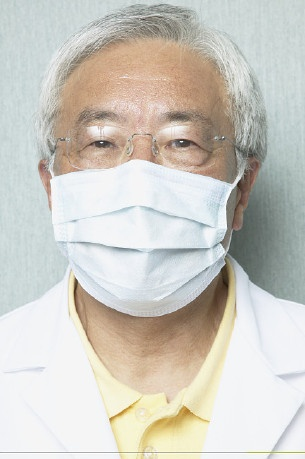Mask: (47, 82, 283, 318)
